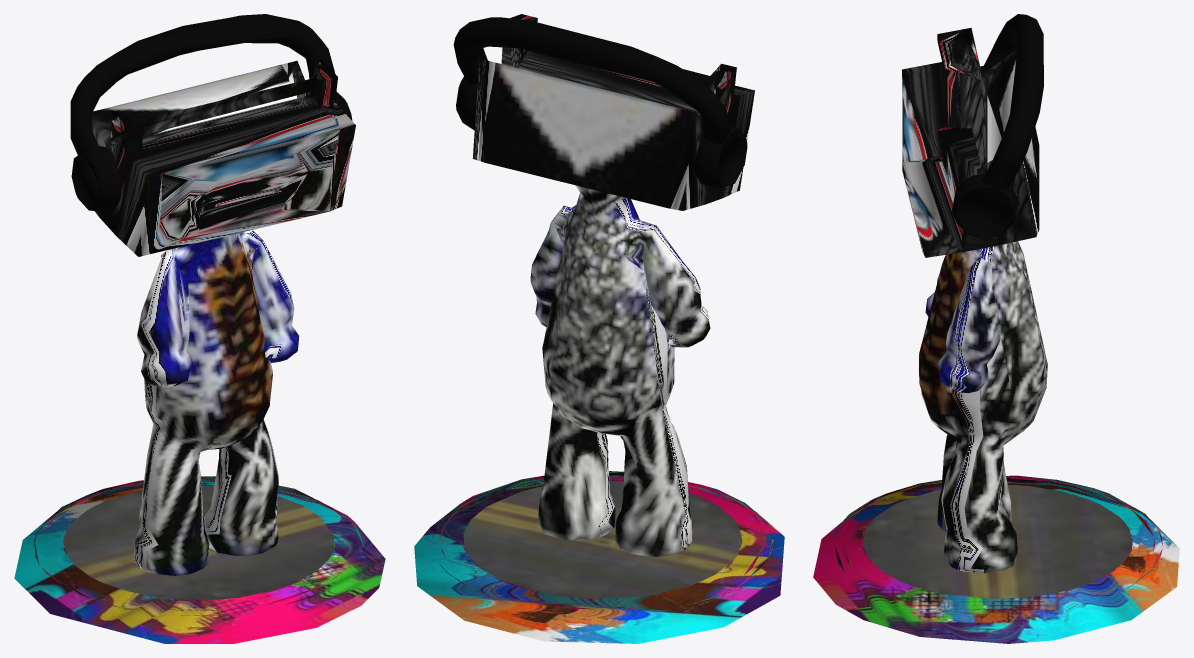
The picture shows the model from 3 angles, left to right: view 1: azimuth 30°, elevation 25°; view 2: azimuth 150°, elevation 25°; view 3: azimuth 270°, elevation 25°; orthographic projection. The views are drawn at different scales.
Size of the model in its own units: 1.44 by 2.24 by 1.42.
5 materials, 4 textured.
